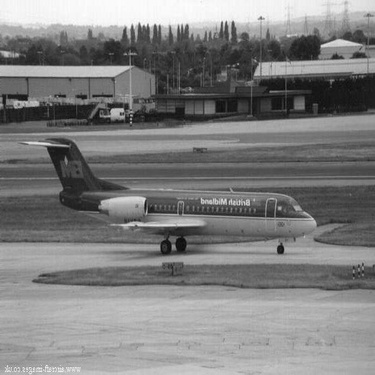airplane: (14, 118, 321, 270)
